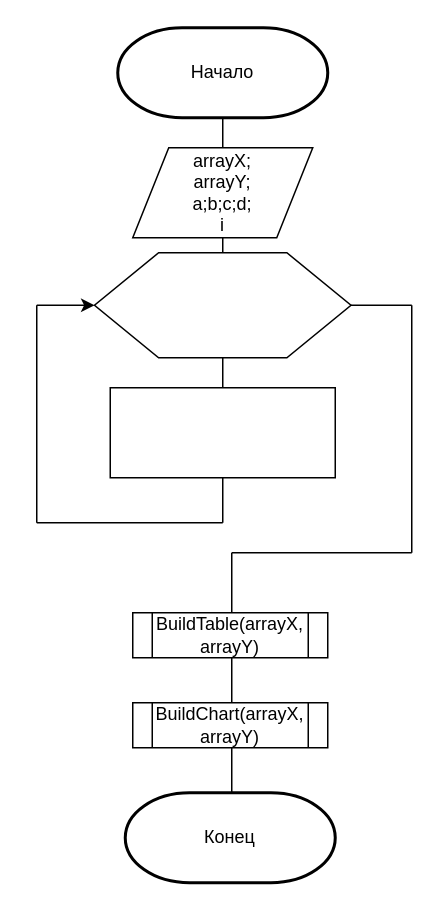
Image size: 440x909. Some labels were removed from this diagram. The shapes that lost their labels are listed below. From the top down, each one's centre as x and y in pixels, then its label:
At (222,304): "Проход от левой границы до правой с заданным шагом, инкрементация i".
At (222,432): "arrayX[i]=x; arrayY[i]=a+b*sin(c*x+d)".
